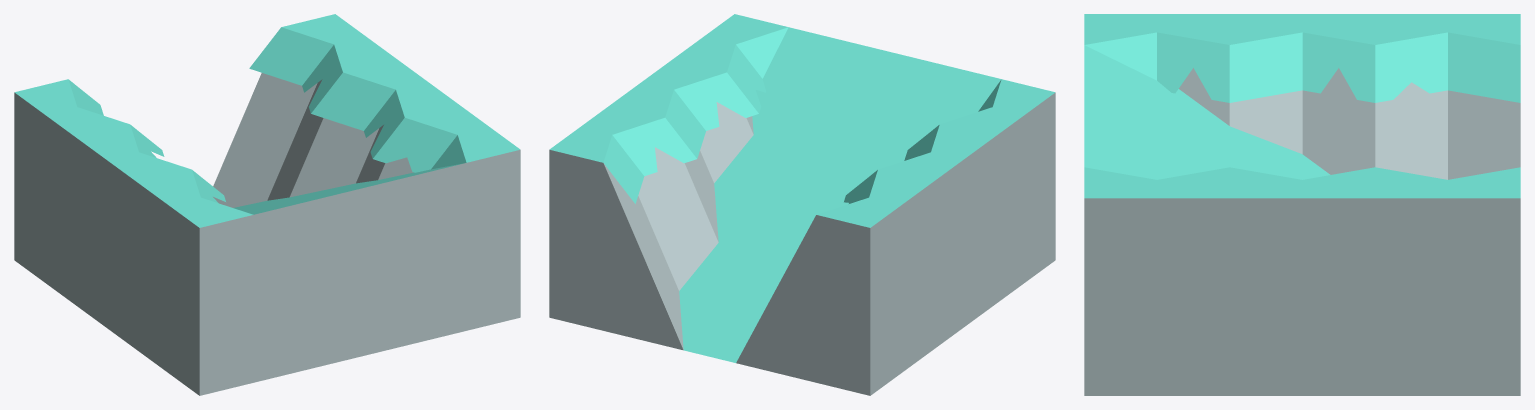
File: cliff_blockSlopeHalfWalls_stone.glb
The picture shows the model from 3 angles, left to right: view 1: azimuth 30°, elevation 25°; view 2: azimuth 150°, elevation 25°; view 3: azimuth 270°, elevation 25°; orthographic projection. The views are drawn at different scales.
Parts seen in each view (by area): view 1: cliff_blockSlopeHalfWalls_stone; view 2: cliff_blockSlopeHalfWalls_stone; view 3: cliff_blockSlopeHalfWalls_stone.
Part boxes in pixels (box(x1,y1,x2,y2)): cliff_blockSlopeHalfWalls_stone: box(14, 14, 520, 395); cliff_blockSlopeHalfWalls_stone: box(549, 14, 1055, 395); cliff_blockSlopeHalfWalls_stone: box(1084, 14, 1520, 395).
Bounding box in the file's own units: 1 × 0.5 × 1.
